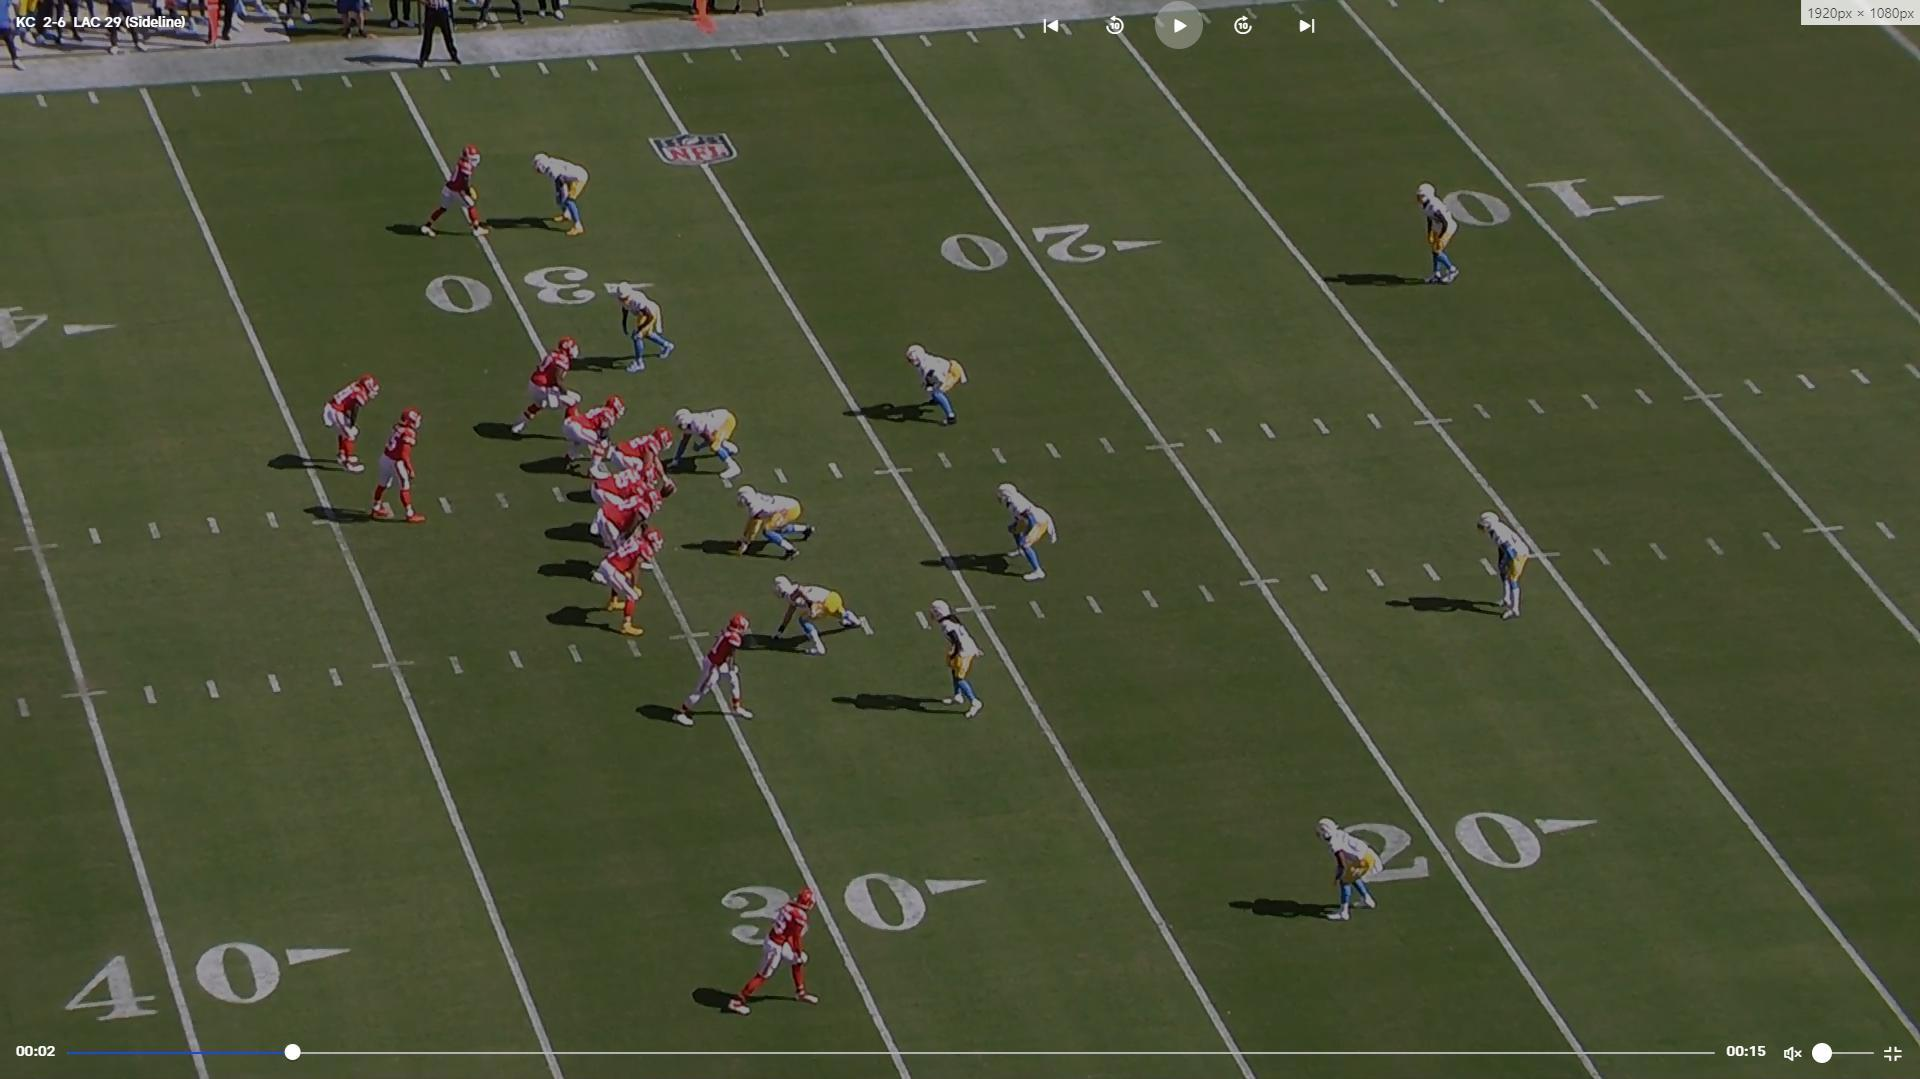player: (723, 881, 820, 1016), (677, 611, 762, 732), (769, 574, 875, 657), (370, 405, 433, 528), (929, 598, 990, 723), (519, 337, 591, 441), (603, 523, 666, 640), (1309, 814, 1375, 925), (416, 138, 484, 243), (996, 481, 1061, 589), (596, 486, 668, 582), (1475, 508, 1533, 626), (612, 278, 681, 376), (729, 483, 815, 561), (321, 371, 381, 478), (662, 409, 746, 485), (1416, 182, 1471, 291), (532, 147, 592, 241), (593, 465, 664, 544), (905, 342, 968, 428), (601, 429, 675, 497), (559, 395, 625, 461)
ref: (416, 0, 464, 68)
